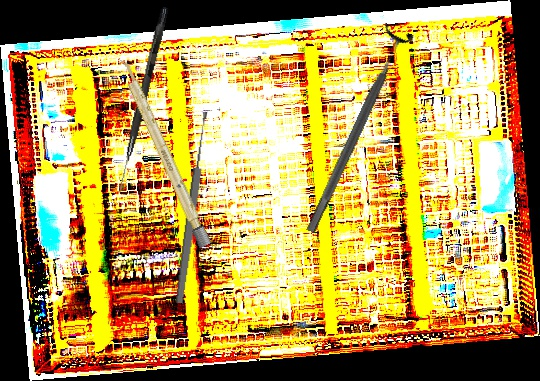Fixation Ring: (294, 22, 417, 239)
Hook Surgical: (116, 5, 169, 195)
Scalpel Handle: (116, 56, 212, 249)
Surgical Spoon: (173, 111, 212, 304)
